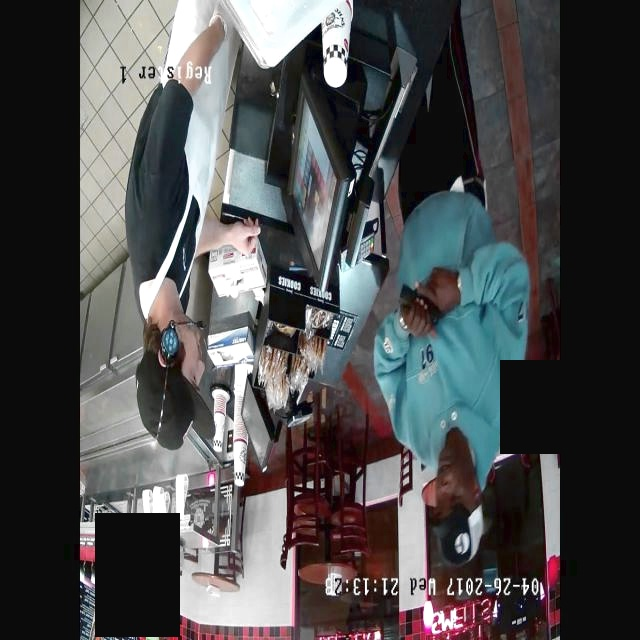gun: (386, 263, 456, 343)
